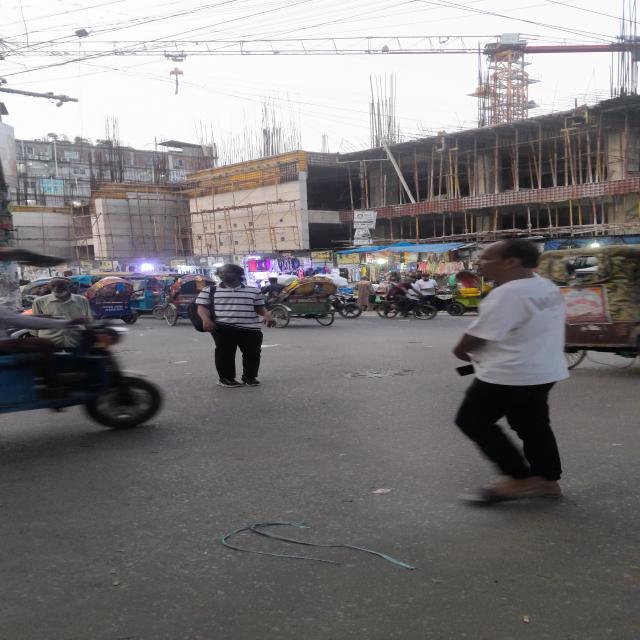person: (453, 239, 568, 501), (196, 264, 276, 388), (32, 278, 92, 350)
